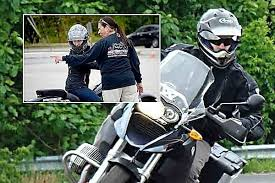helmet: (195, 7, 243, 67), (65, 23, 91, 53)
